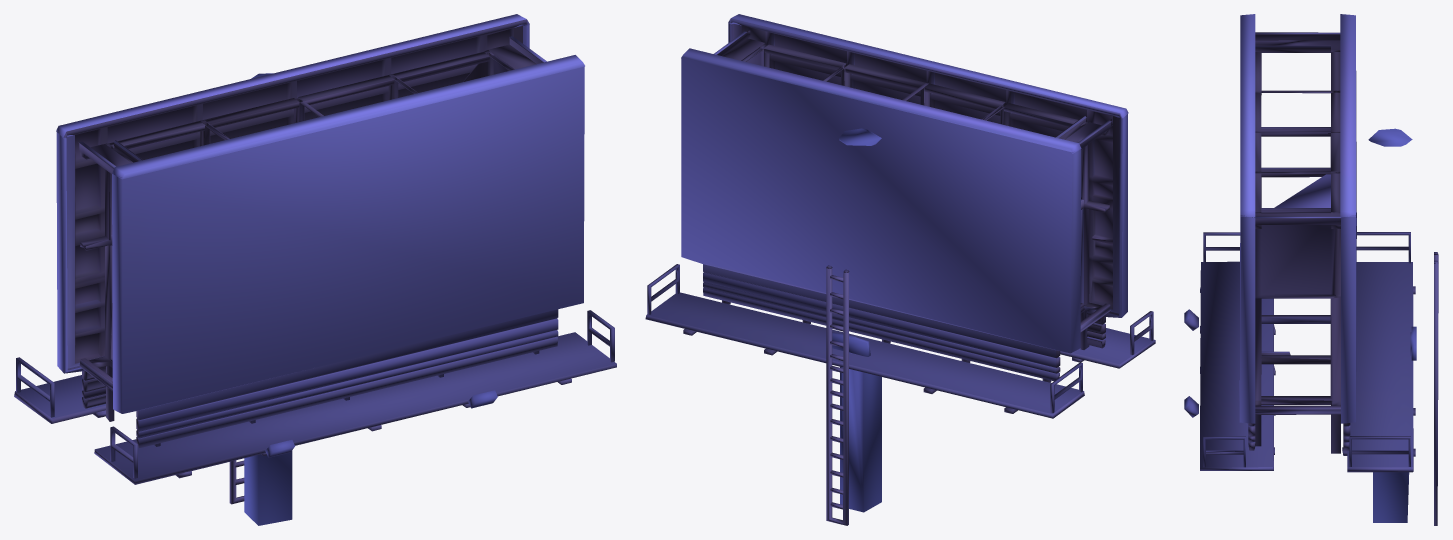
Rendered from model.progressive.glb.
3 views of the same model, side by side, from view 1: azimuth 30°, elevation 25°; view 2: azimuth 150°, elevation 25°; view 3: azimuth 270°, elevation 25° (orthographic). The views are drawn at different scales.
Parts seen in each view (by area): view 1: material; view 2: material; view 3: material.
Part boxes in pixels (x1,y1,x2,y2): material: [14, 14, 616, 525]; material: [645, 14, 1155, 525]; material: [1184, 14, 1438, 525].
Size of the model in its own units: 1.9 by 1.75 by 0.9901.
Materials: 1 (1 with a texture image).
